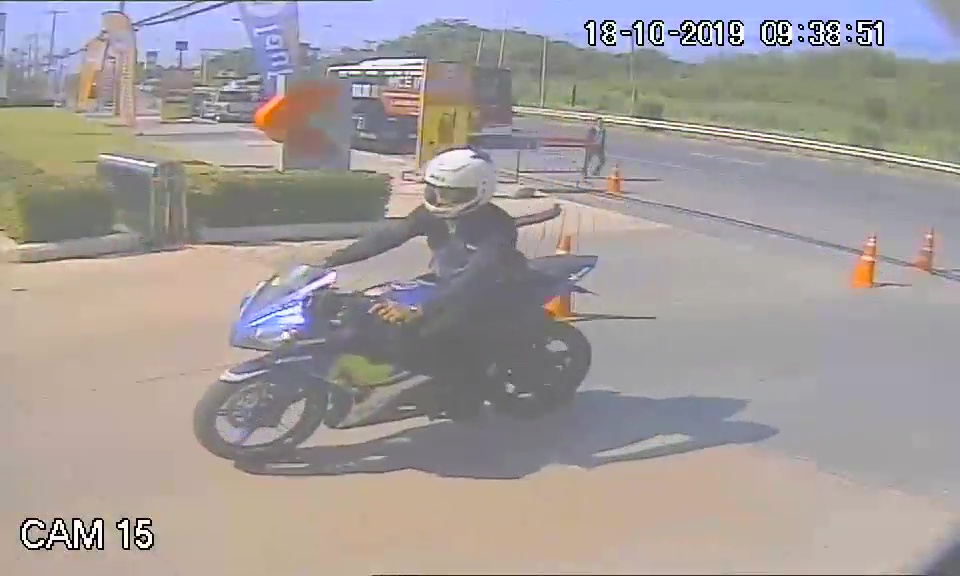motorcycle: (191, 251, 608, 458)
